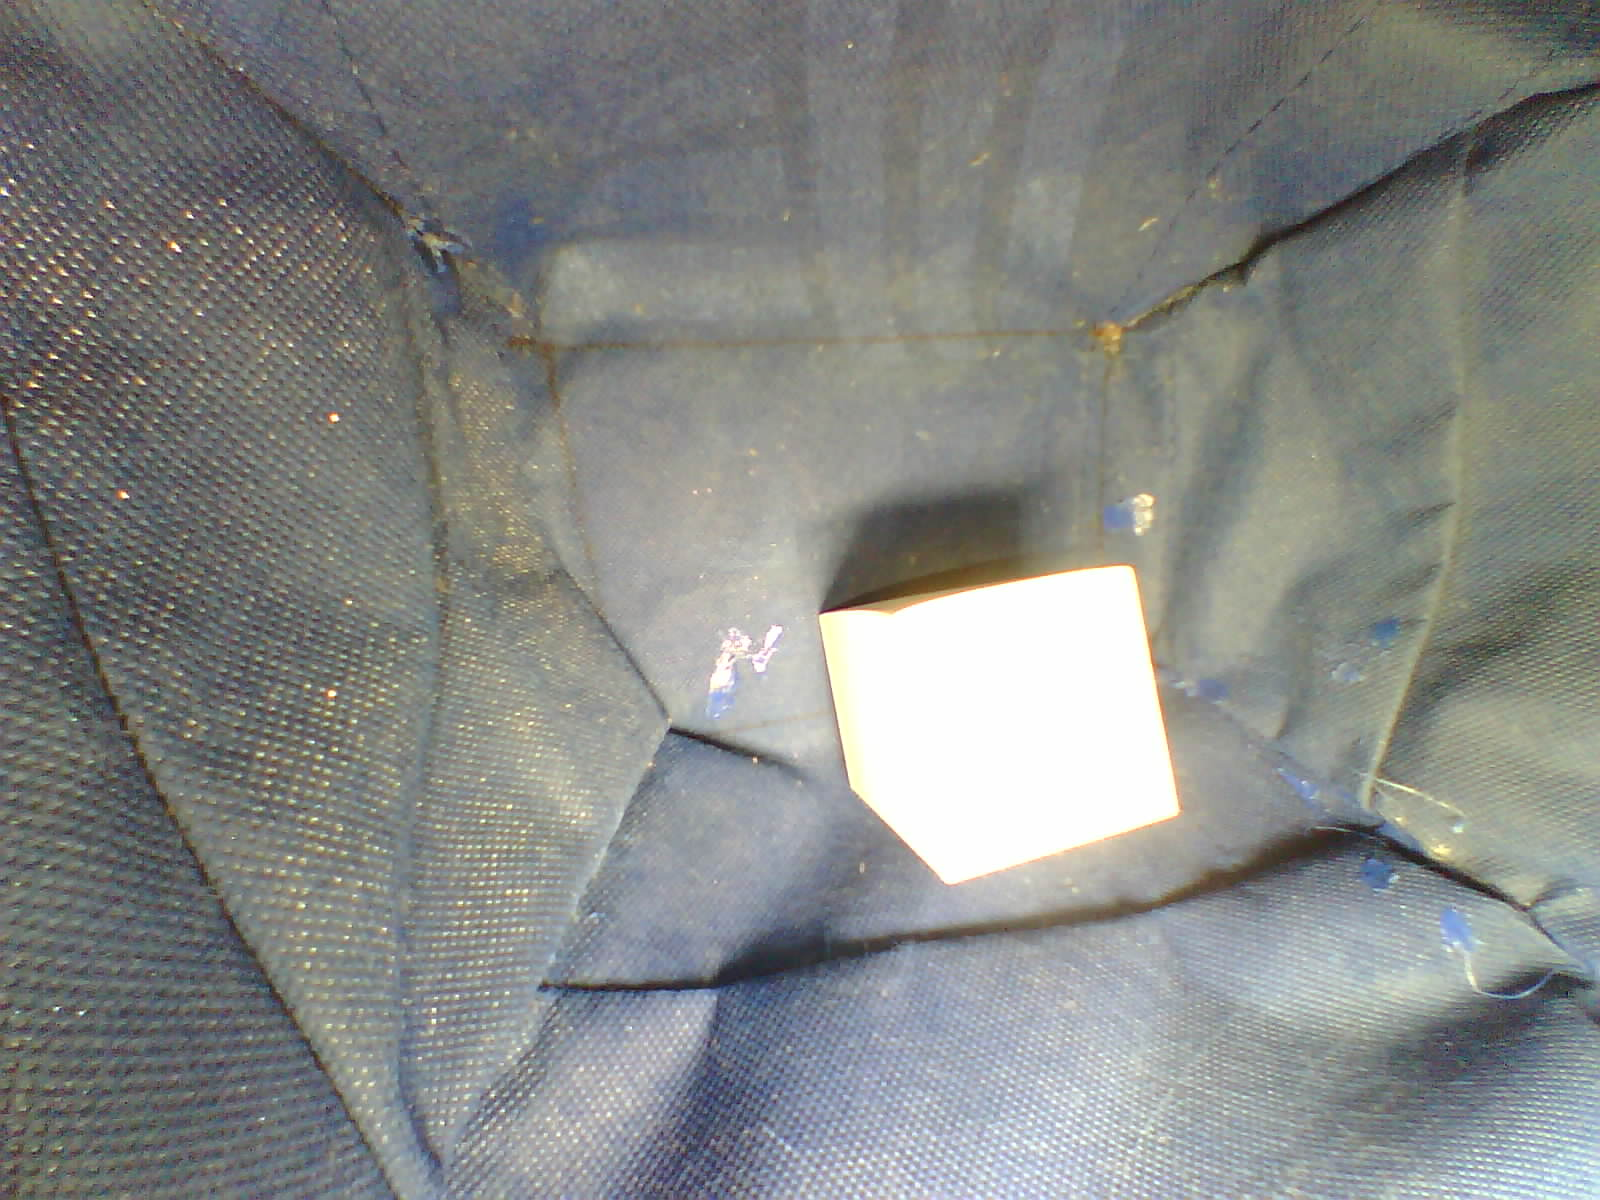cube-hard: (794, 542, 1201, 899)
